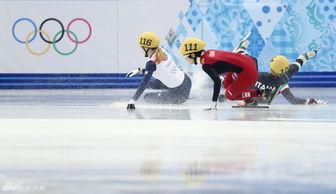Fall-Detected: (182, 33, 332, 111)
